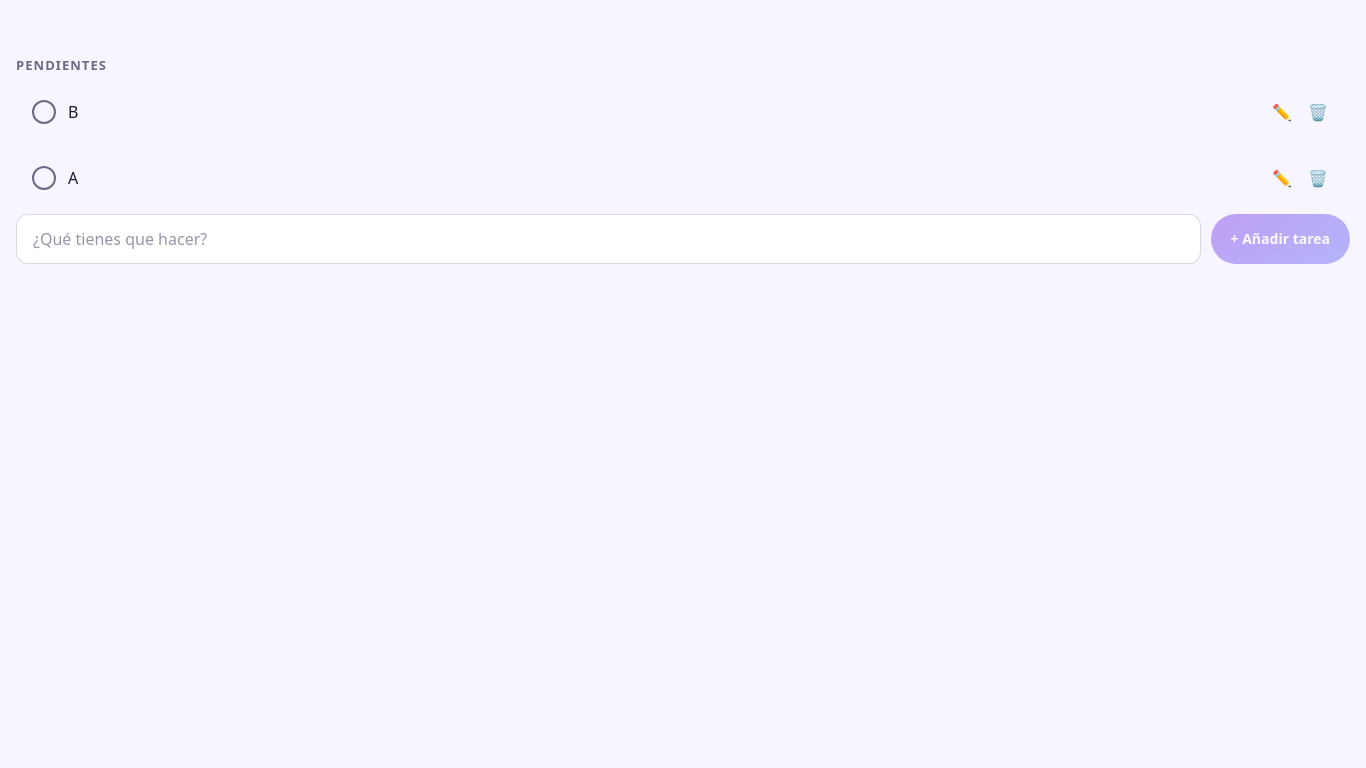
Test case: Toast › appears with Tarea eliminada + Deshacer after an instant delete
This screenshot has width=1366, height=768.
Click the button named "Eliminar A": (1318, 178) left=1302, top=162, right=1334, bottom=194
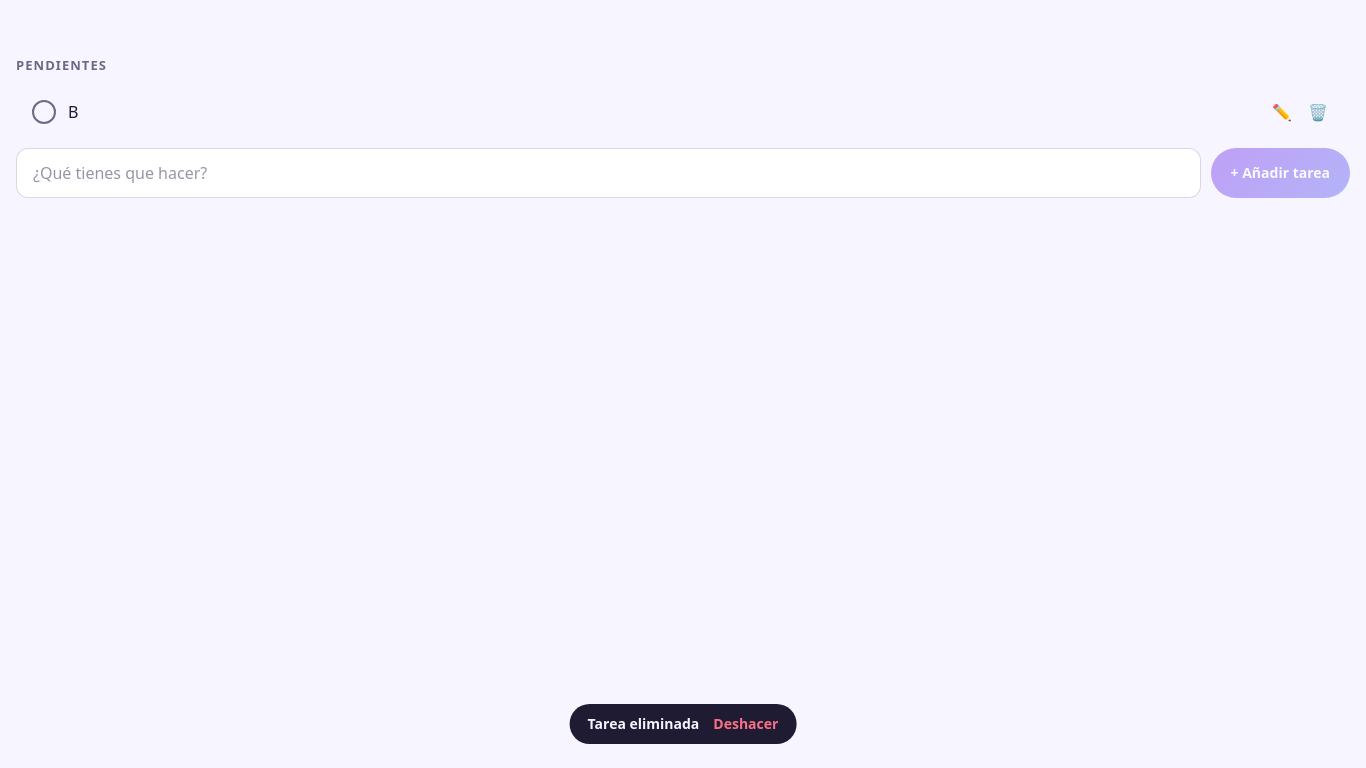
Expected: the text "Tarea eliminada" is shown, left=588, top=714, right=699, bottom=734
Expected: the button "Deshacer" is shown, left=713, top=714, right=778, bottom=734
